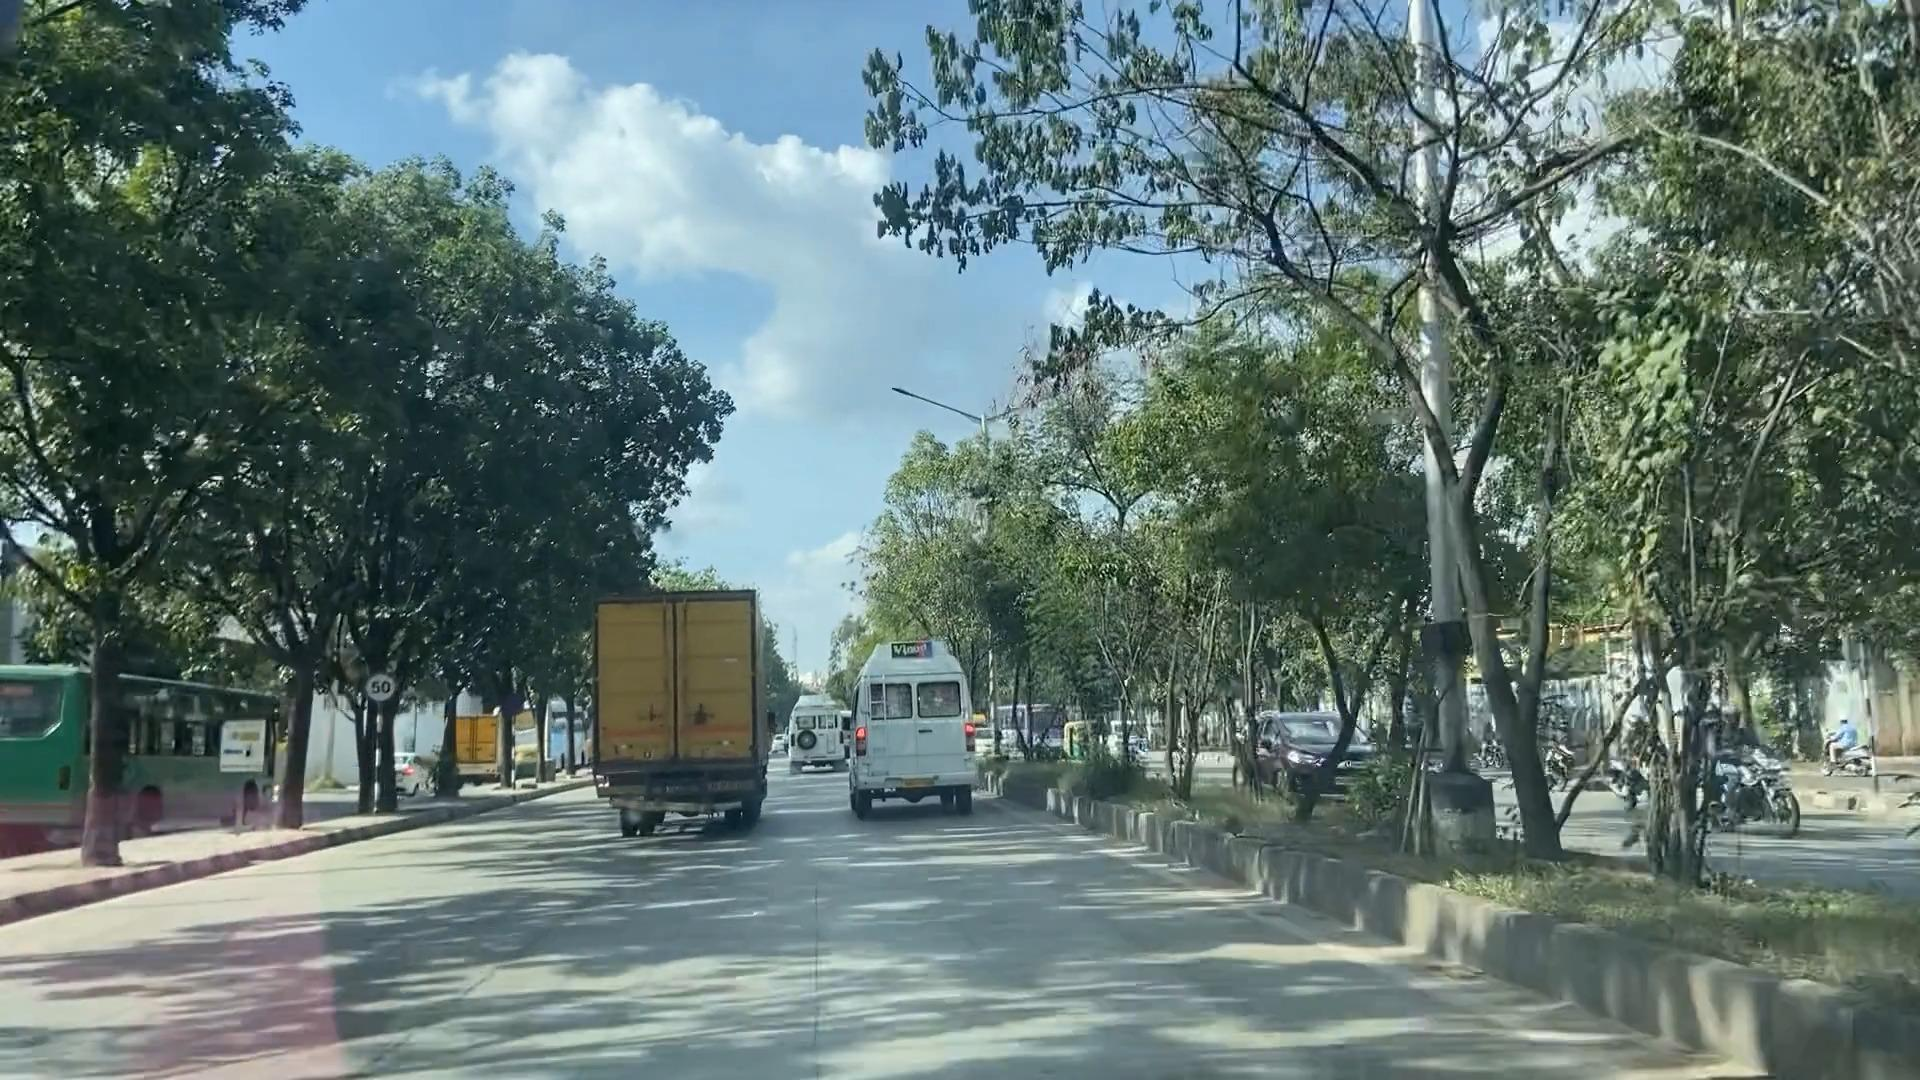HMV: (589, 596, 759, 814), (856, 641, 993, 811), (790, 700, 850, 774)
